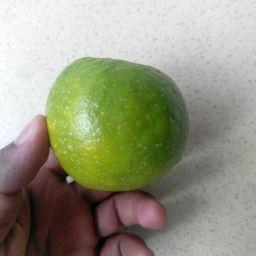Unripe: (44, 59, 189, 193)
